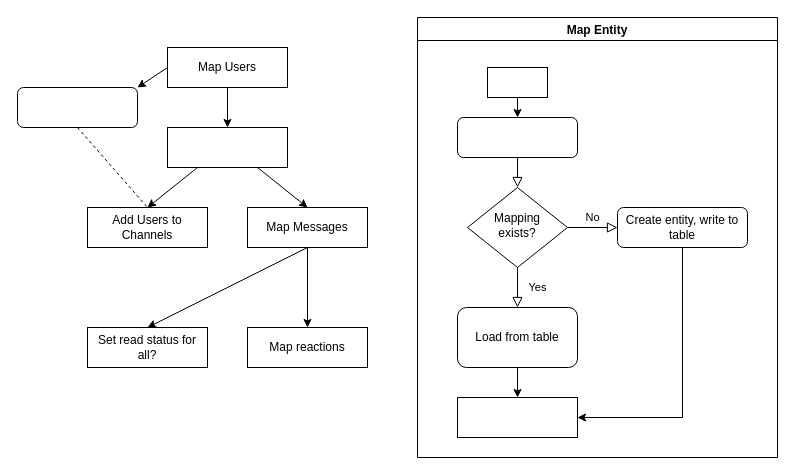
Image size: 795x475. Some labels were removed from this diagram. The centre of each missing label's shape, as x and y in pixels:
Lookup RC entity: point 517,137
Map Channels: point 227,147
Matrix ID: point 517,417
RC ID: point 517,82
yields memberships: point 77,107
